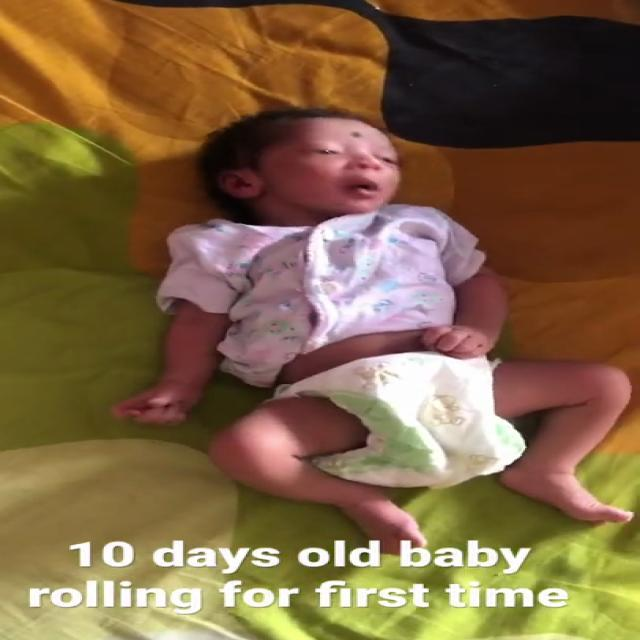baby: (122, 110, 640, 551)
